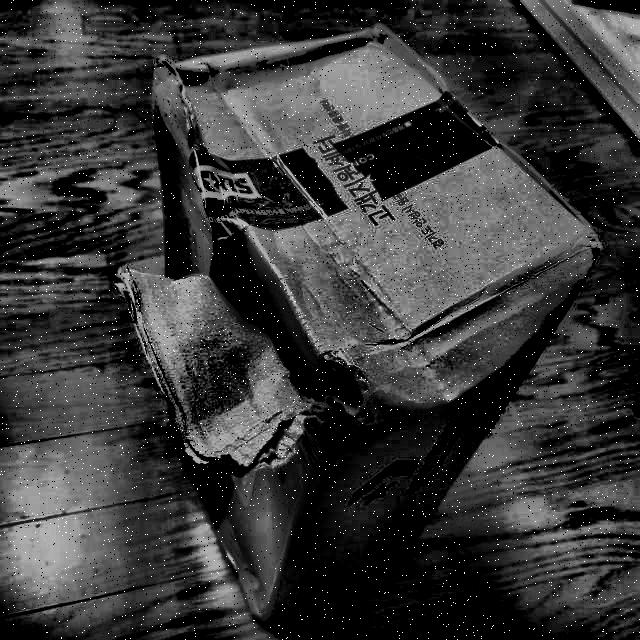box: (110, 15, 617, 636)
hole: (201, 241, 373, 425)
